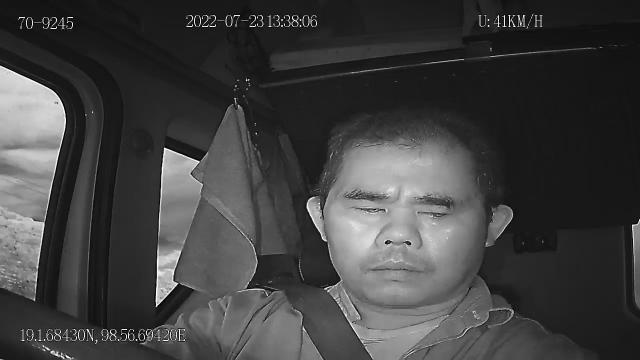SafeDriving: (408, 195, 460, 227), (341, 194, 394, 220)
Seatbelt: (254, 280, 374, 360)
